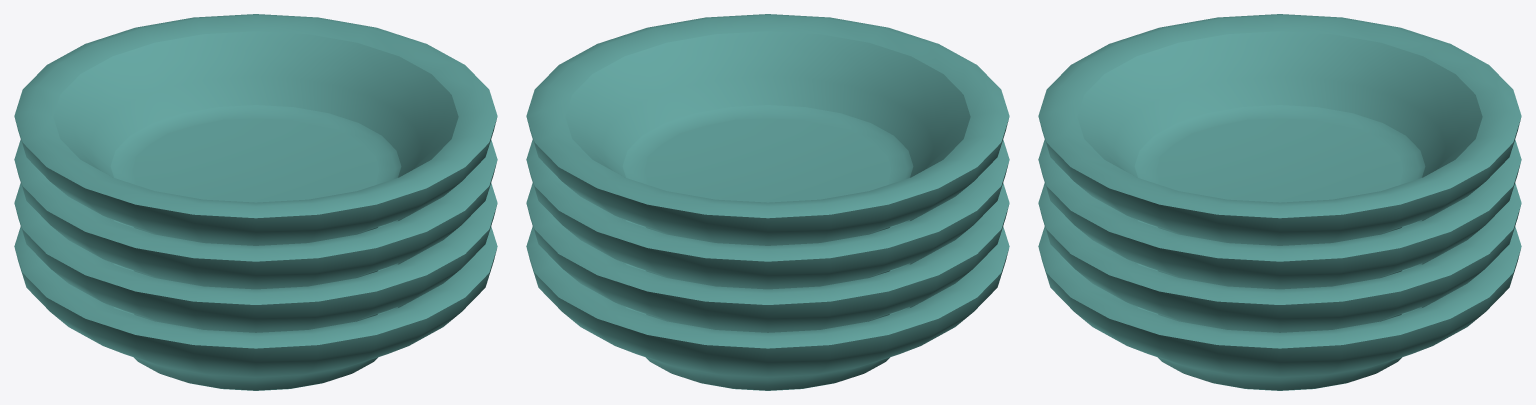
Rendered from 084_plate_stack.glb.
3 renders of one model, left to right at view 1: azimuth 30°, elevation 25°; view 2: azimuth 150°, elevation 25°; view 3: azimuth 270°, elevation 25°, orthographic.
Visible parts, largest first — view 1: plate_4, plate_1, plate_3, plate_2; view 2: plate_4, plate_1, plate_3, plate_2; view 3: plate_4, plate_1, plate_3, plate_2.
Boxes of the visible parts, bbox=[...] form: plate_4: bbox=[14, 14, 497, 245]; plate_1: bbox=[14, 226, 497, 390]; plate_3: bbox=[14, 139, 497, 289]; plate_2: bbox=[14, 183, 497, 332]; plate_4: bbox=[526, 14, 1009, 245]; plate_1: bbox=[526, 226, 1009, 390]; plate_3: bbox=[526, 139, 1009, 289]; plate_2: bbox=[526, 183, 1009, 332]; plate_4: bbox=[1038, 14, 1521, 245]; plate_1: bbox=[1038, 226, 1521, 390]; plate_3: bbox=[1038, 139, 1521, 289]; plate_2: bbox=[1038, 183, 1521, 332].
Bounding box in the file's own units: 0.5041 × 0.258 × 0.5041.
